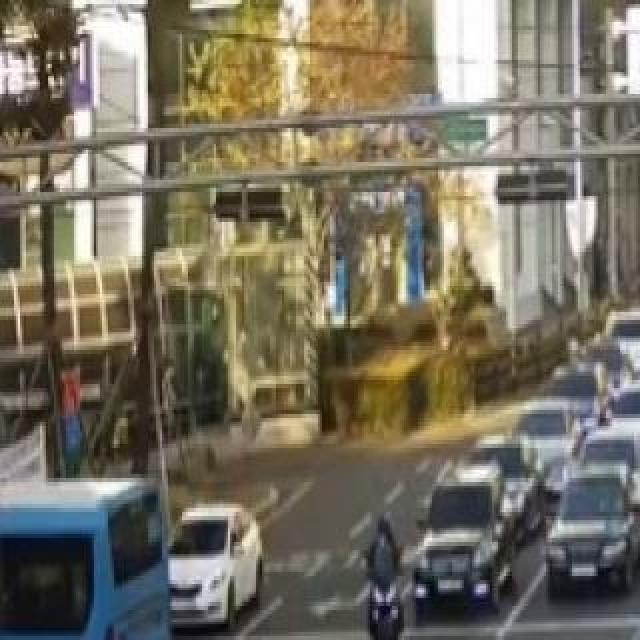motorbike: (352, 502, 412, 640)
